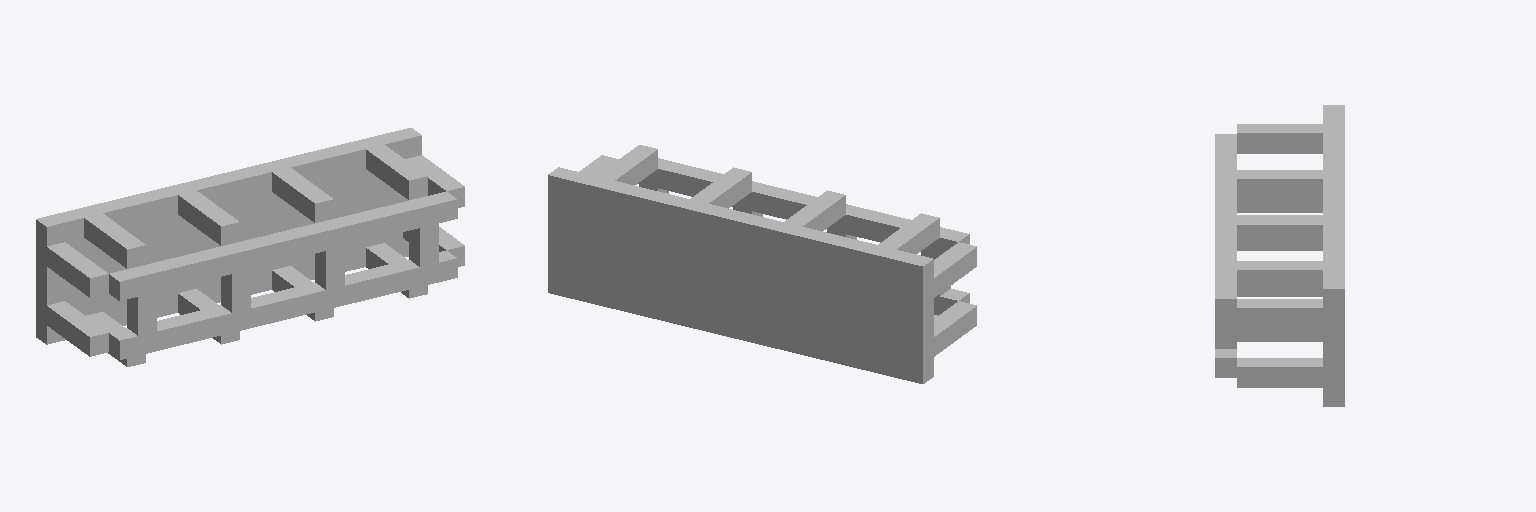
File: Lampara.obj
3 renders of one model, left to right at view 1: azimuth 30°, elevation 25°; view 2: azimuth 150°, elevation 25°; view 3: azimuth 270°, elevation 25°, orthographic.
Parts seen in each view (by area): view 1: object 1; view 2: object 1; view 3: object 1.
Part boxes in pixels (left/top/right/bottom): object 1: left=36, top=128, right=464, bottom=366; object 1: left=548, top=145, right=976, bottom=383; object 1: left=1215, top=105, right=1344, bottom=406.
Bounding box in the file's own units: 2 × 0.6 × 0.6.